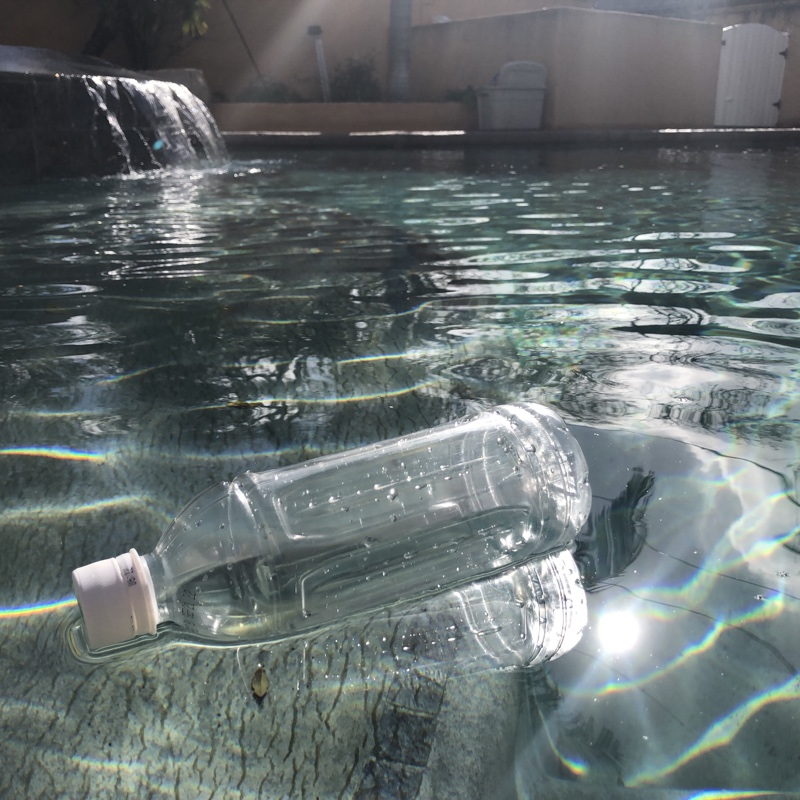Plastic Bottle: (61, 397, 595, 668)
